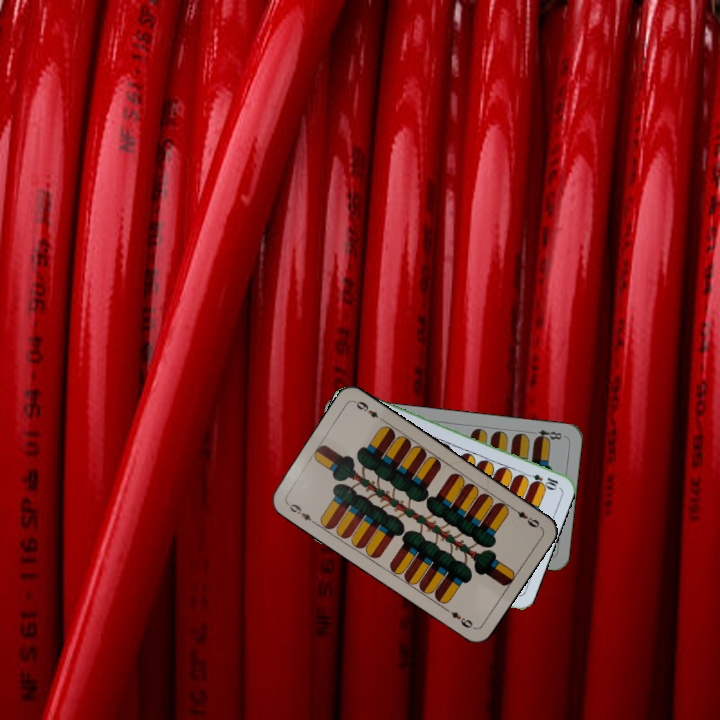E10: (521, 469, 561, 491)
E8: (526, 426, 567, 444)
E9: (283, 499, 319, 527), (507, 503, 543, 530)
